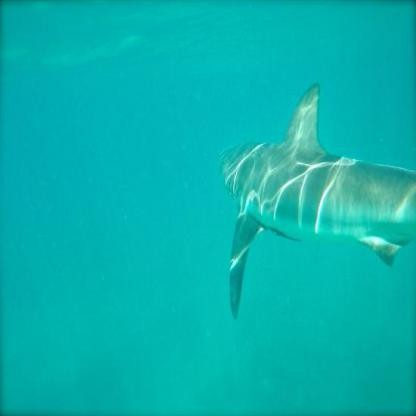shark: (217, 81, 416, 319)
